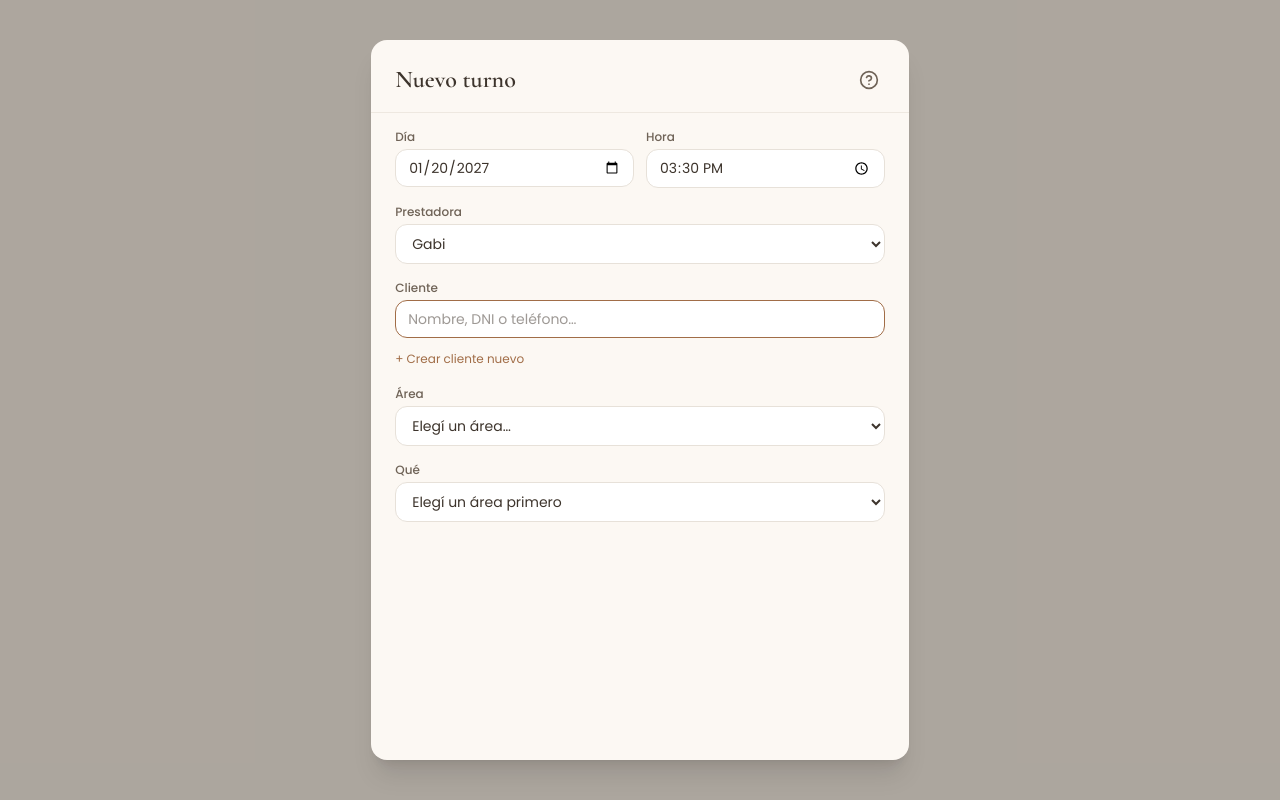
Test: NuevoTurnoModal — la forma › un hueco con horario pasado avisa
Type "2026-10-16" into the date field labelled "Día" at (515,168), box [395,149,634,187]
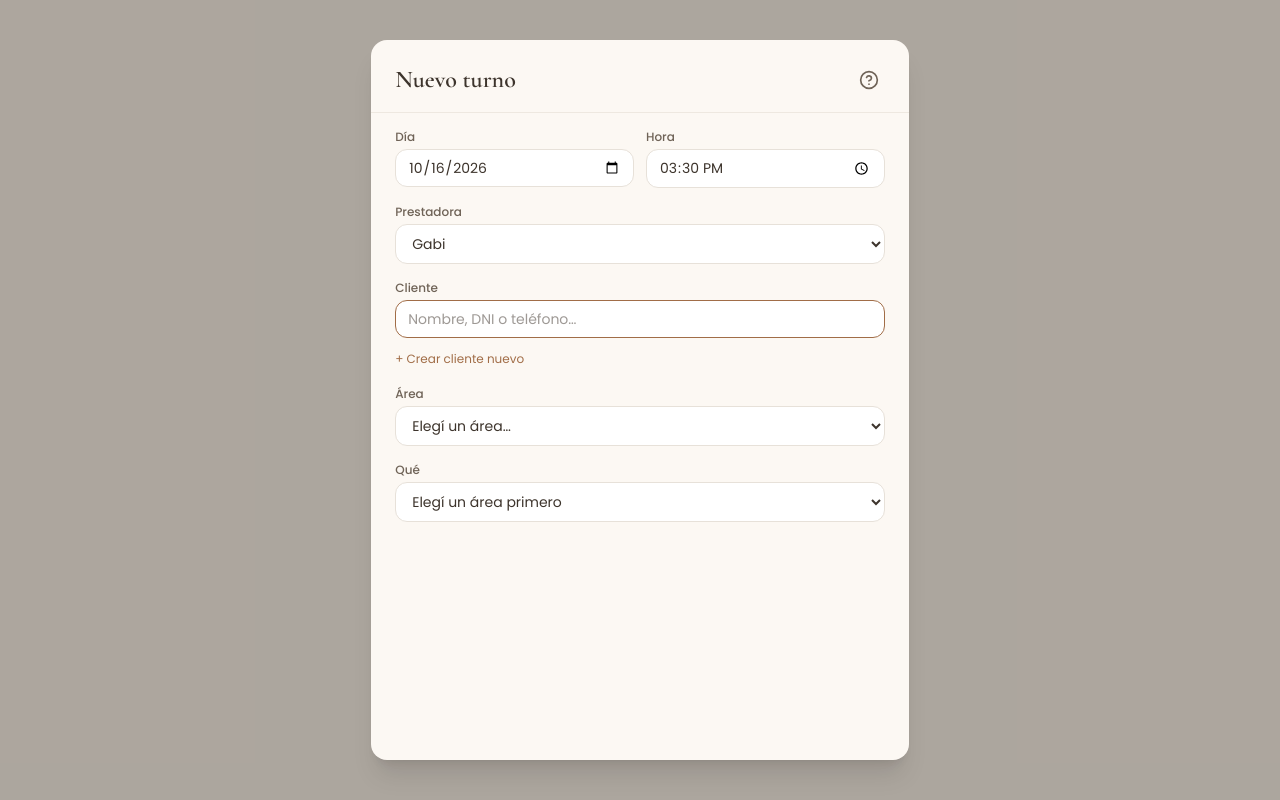
Replace the text in the time field labelled "Hora" with "08:00" at (765,168), box [646,149,885,188]
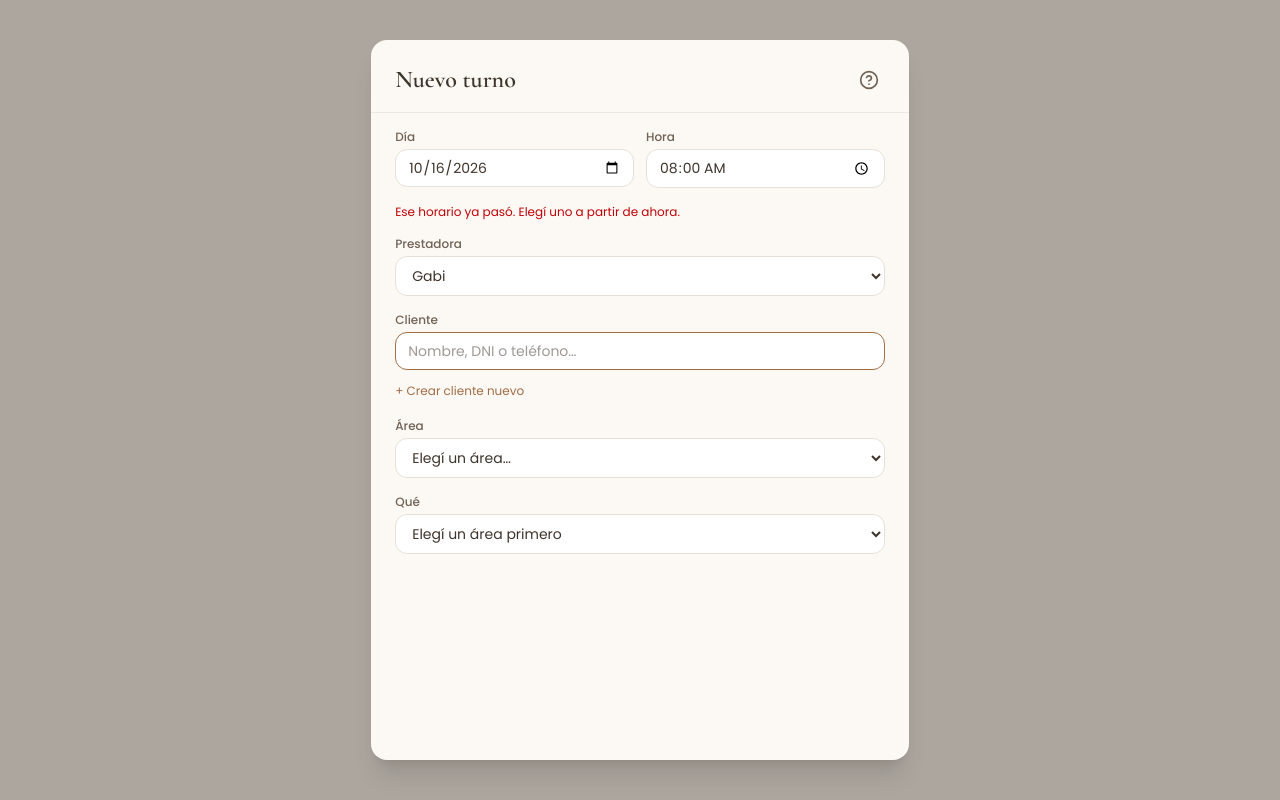
Check: the text "Ese horario ya pasó. Elegí uno a partir de ahora." is shown, box [395,203,680,220]
